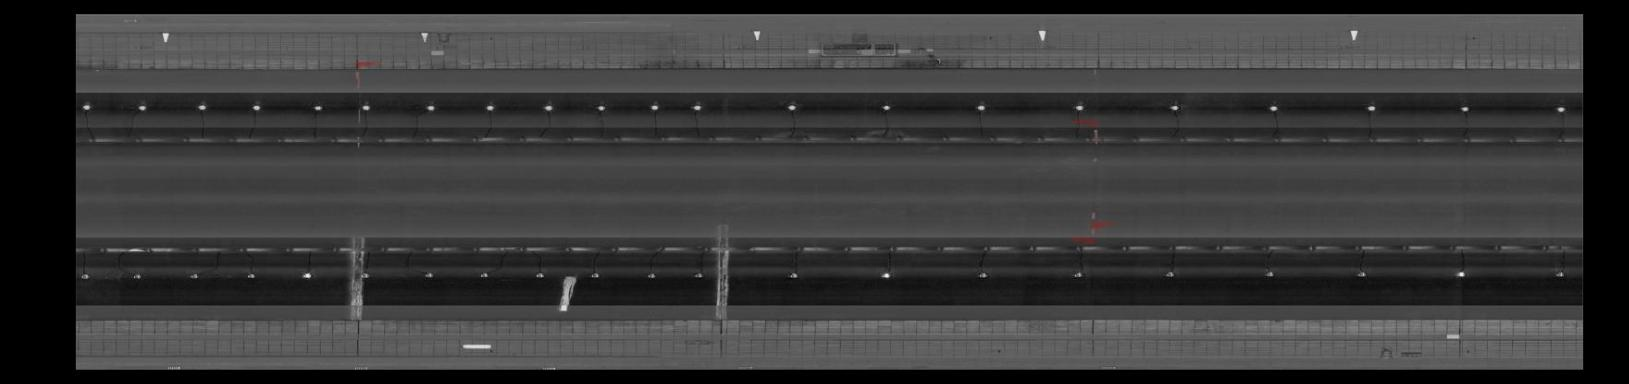light: (780, 101, 804, 114), (1351, 267, 1371, 281), (876, 267, 897, 281), (1068, 101, 1089, 114), (1550, 266, 1569, 280), (876, 100, 894, 114), (1159, 267, 1179, 280), (475, 268, 495, 281), (1452, 266, 1470, 280), (1165, 101, 1183, 114), (1264, 102, 1283, 115), (971, 101, 990, 114), (973, 268, 992, 281), (421, 101, 440, 113), (128, 267, 144, 281), (79, 268, 94, 284), (784, 270, 804, 281), (1260, 267, 1278, 279), (247, 101, 265, 113), (1456, 104, 1476, 114), (135, 100, 151, 113), (298, 268, 315, 280), (540, 101, 557, 113), (1552, 104, 1570, 115), (1362, 103, 1380, 114), (1069, 270, 1087, 281), (193, 101, 211, 112), (79, 101, 95, 113), (646, 102, 663, 113), (421, 270, 437, 281), (242, 269, 259, 280), (688, 101, 705, 111), (586, 269, 600, 281), (594, 101, 609, 113), (691, 270, 706, 281), (644, 270, 660, 281), (309, 102, 324, 113), (358, 100, 374, 111), (482, 102, 498, 113), (531, 270, 548, 280), (186, 270, 201, 281), (359, 270, 373, 280)
